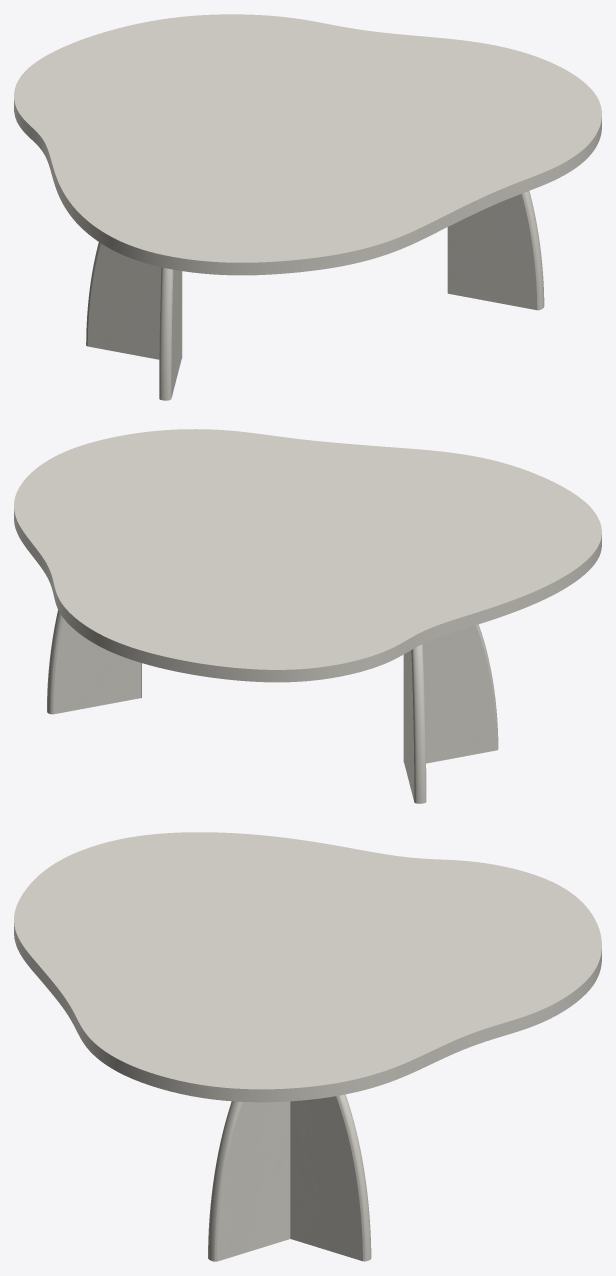
Rendered from pale_topone_standard_newtable2.glb.
3 renders of one model, top to bottom at view 1: azimuth 30°, elevation 25°; view 2: azimuth 150°, elevation 25°; view 3: azimuth 270°, elevation 25°, orthographic. The views are drawn at different scales.
Visible parts, largest first — view 1: standard_topone, newtable2_singleright2, newtable2_singleleft1, newtable2_singleright1; view 2: standard_topone, newtable2_singleright1, newtable2_singleleft2, newtable2_singleleft1; view 3: standard_topone, newtable2_singleright2, newtable2_singleleft2.
Boxes of the visible parts, x1=… form: standard_topone: x1=14, y1=14, x2=601, y2=275; newtable2_singleright2: x1=447, y1=191, x2=544, y2=310; newtable2_singleleft1: x1=86, y1=242, x2=182, y2=359; newtable2_singleright1: x1=159, y1=267, x2=181, y2=400; standard_topone: x1=14, y1=429, x2=601, y2=682; newtable2_singleright1: x1=403, y1=624, x2=498, y2=763; newtable2_singleleft2: x1=47, y1=610, x2=141, y2=714; newtable2_singleleft1: x1=404, y1=644, x2=426, y2=803; standard_topone: x1=14, y1=832, x2=601, y2=1102; newtable2_singleright2: x1=208, y1=1101, x2=290, y2=1261; newtable2_singleleft2: x1=290, y1=1094, x2=371, y2=1261.
Bounding box in the file's own units: 6.83 × 2.49 × 6.6.
1 material, 1 textured.
